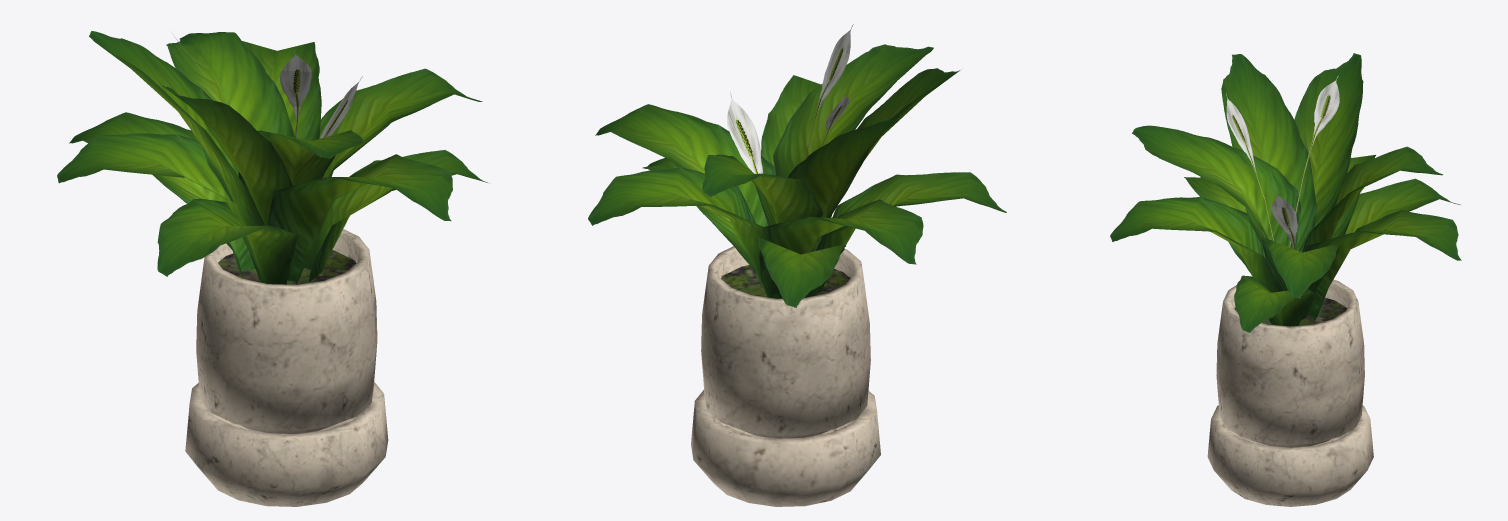
Rendered from pottedplant_1.fbx.
3 views of the same model, side by side, from view 1: azimuth 30°, elevation 25°; view 2: azimuth 150°, elevation 25°; view 3: azimuth 270°, elevation 25° (orthographic). The views are drawn at different scales.
Visible parts, largest first — view 1: Plane.044; view 2: Plane.044; view 3: Plane.044.
Boxes of the visible parts, <box> form: Plane.044: <box>57,31,487,506</box>; Plane.044: <box>588,24,1006,506</box>; Plane.044: <box>1110,53,1461,506</box>.
Bounding box in the file's own units: 151 × 149 × 146.
3 materials, 3 textured.
